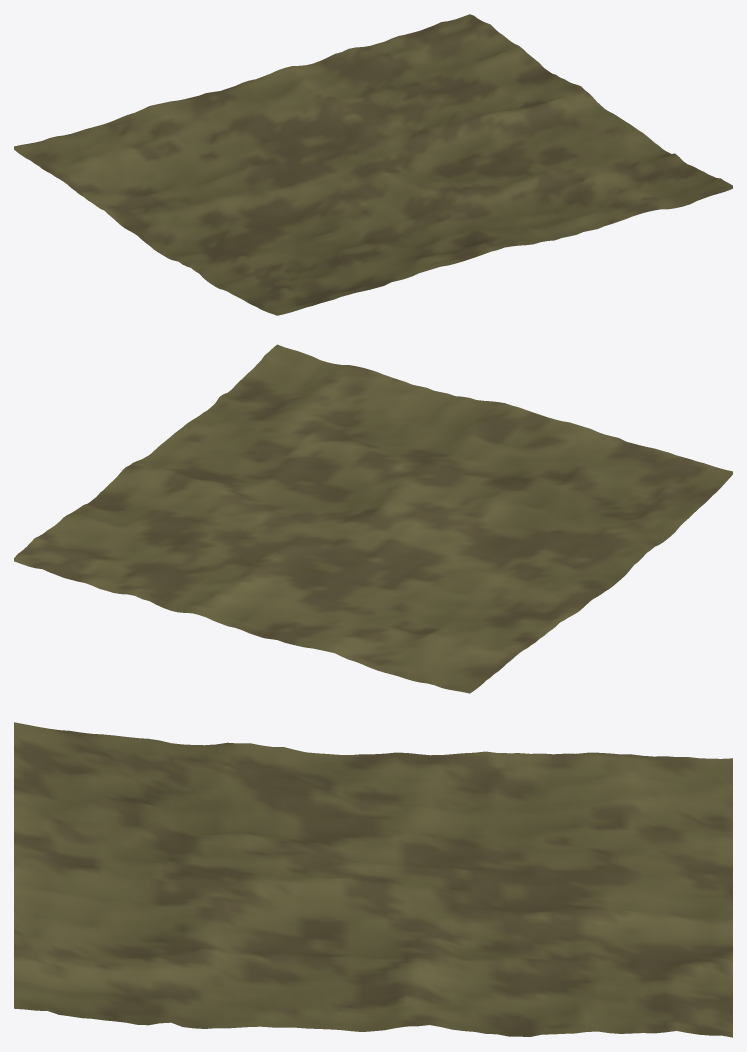
File: land_f_06_07.glb
3 renders of one model, top to bottom at view 1: azimuth 30°, elevation 25°; view 2: azimuth 150°, elevation 25°; view 3: azimuth 270°, elevation 25°, orthographic. The views are drawn at different scales.
Visible parts, largest first — view 1: land_f_06_07; view 2: land_f_06_07; view 3: land_f_06_07.
Boxes of the visible parts, <box> form: land_f_06_07: <box>14,14,732,315</box>; land_f_06_07: <box>14,344,732,693</box>; land_f_06_07: <box>14,722,732,1037</box>.
Bounding box in the file's own units: 3840 × 375 × 3840.
